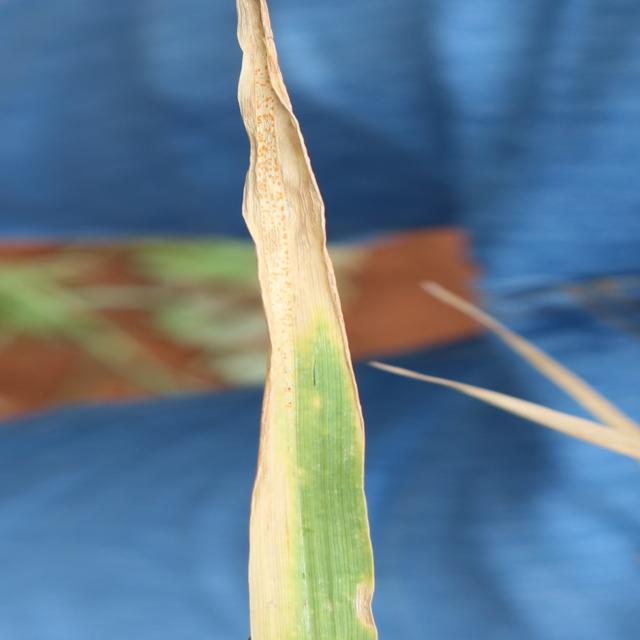Septoria: (233, 1, 379, 638)
